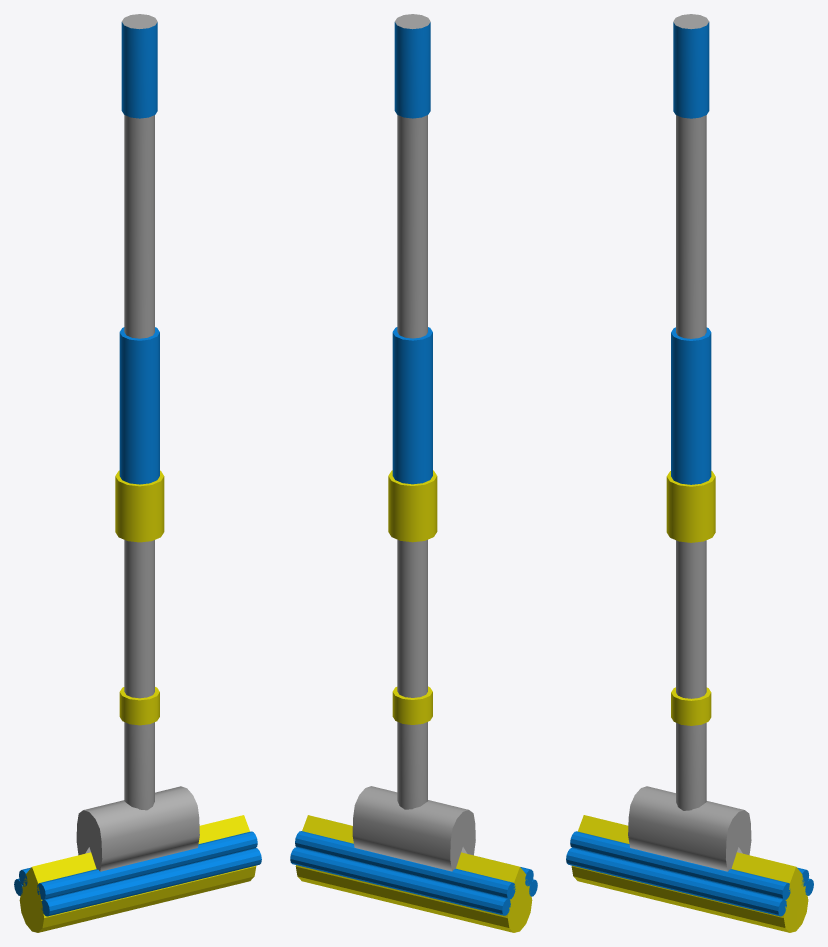
Rendered from Mop.fbx.
3 views of the same model, side by side, from view 1: azimuth 30°, elevation 25°; view 2: azimuth 150°, elevation 25°; view 3: azimuth 330°, elevation 25° (orthographic).
Visible parts, largest first — view 1: Mop; view 2: Mop; view 3: Mop.
Boxes of the visible parts, x1,y1,x2,y2 form: Mop: (14, 14, 261, 932); Mop: (290, 14, 537, 932); Mop: (566, 14, 813, 932).
Size of the model in its own units: 40 by 159 by 11.65.
